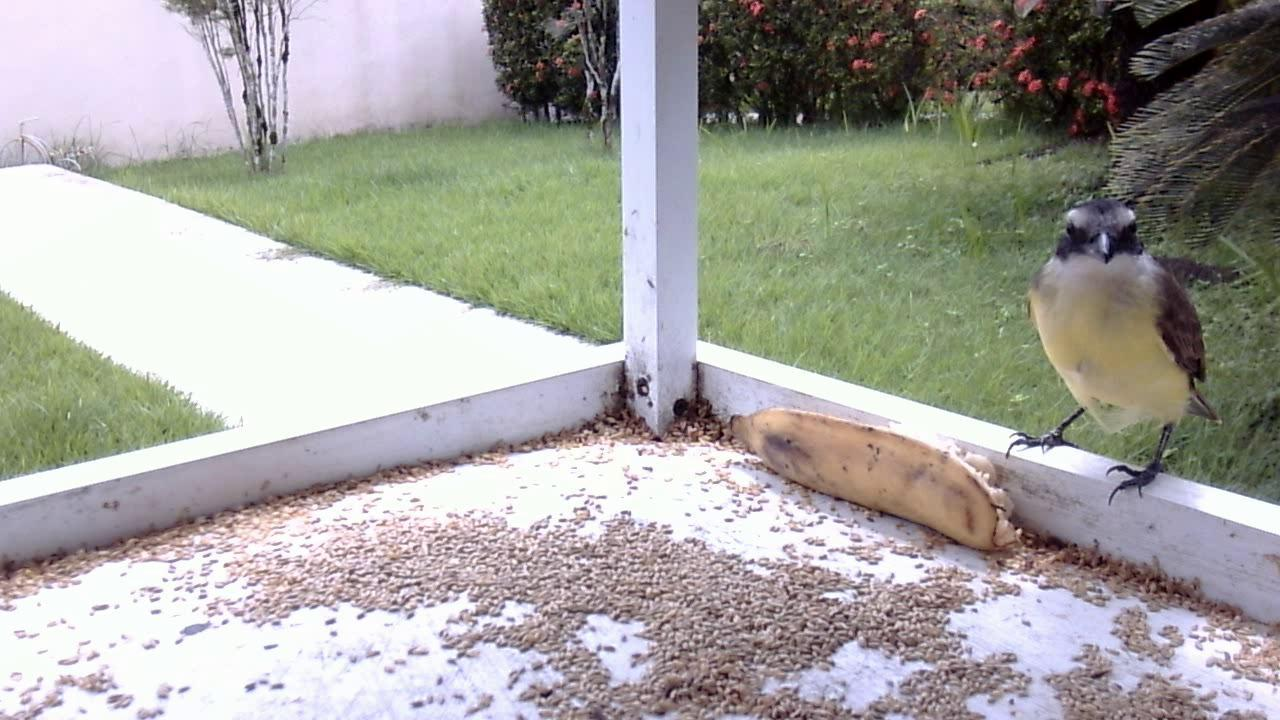bem_te_vi: (994, 188, 1235, 520)
